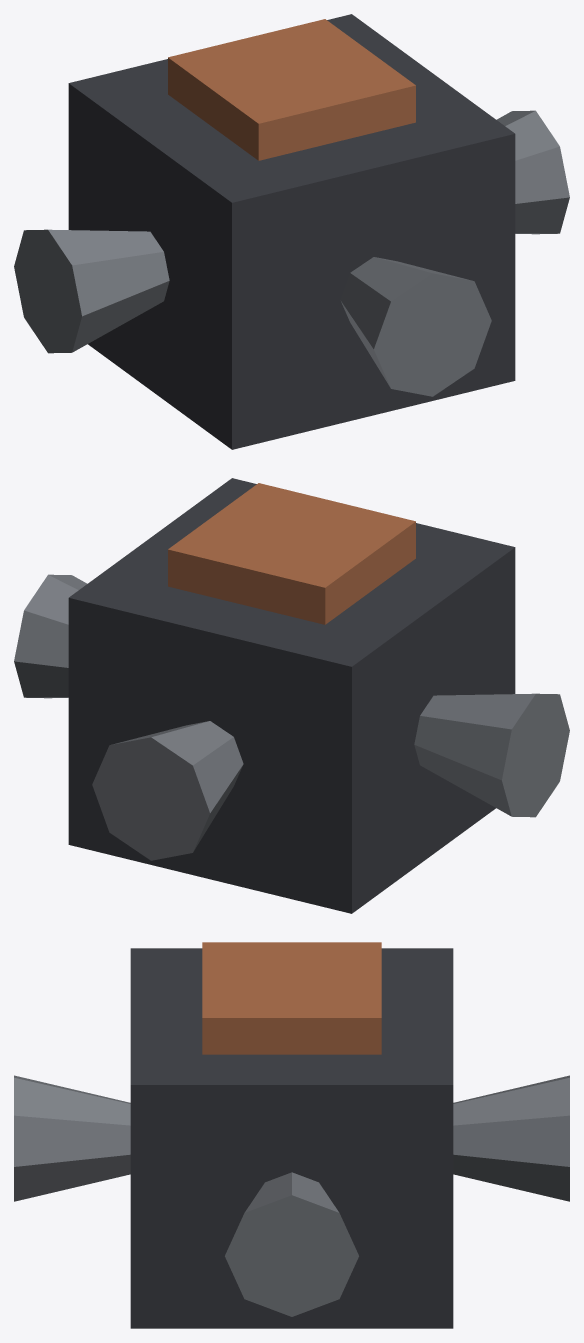
File: Thr_RCS_Block.fbx
3 views of the same model, one above another, from view 1: azimuth 30°, elevation 25°; view 2: azimuth 150°, elevation 25°; view 3: azimuth 270°, elevation 25° (orthographic).
Visible parts, largest first — view 1: Thr_RCS_Block; view 2: Thr_RCS_Block; view 3: Thr_RCS_Block.
Boxes of the visible parts, bbox=[...] form: Thr_RCS_Block: bbox=[14, 14, 569, 449]; Thr_RCS_Block: bbox=[14, 478, 569, 913]; Thr_RCS_Block: bbox=[14, 942, 569, 1328].
Size of the model in its own units: 0.62 by 0.345 by 0.62.
1 material, 1 textured.
